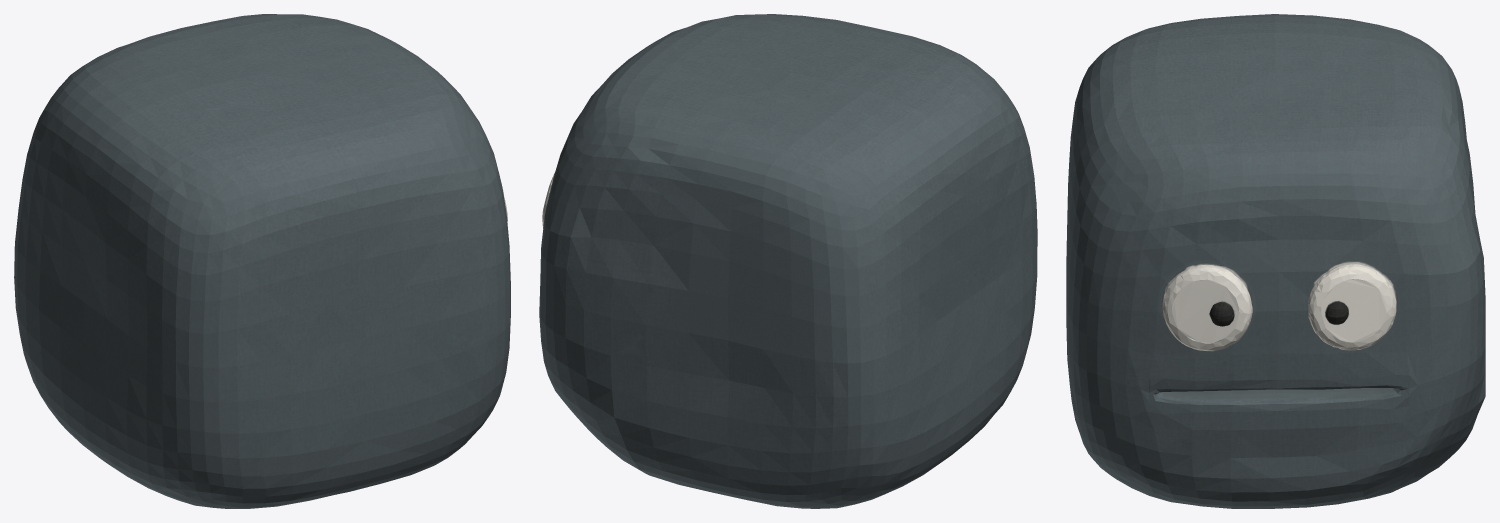
Rendered from petra.glb.
3 renders of one model, left to right at view 1: azimuth 30°, elevation 25°; view 2: azimuth 150°, elevation 25°; view 3: azimuth 270°, elevation 25°, orthographic.
Visible parts, largest first — view 1: tripo_node_5b656501-dd69-4101-909b-5c17f034fe37; view 2: tripo_node_5b656501-dd69-4101-909b-5c17f034fe37; view 3: tripo_node_5b656501-dd69-4101-909b-5c17f034fe37.
Boxes of the visible parts, left/top/right/bottom form: tripo_node_5b656501-dd69-4101-909b-5c17f034fe37: left=14, top=14, right=510, bottom=508; tripo_node_5b656501-dd69-4101-909b-5c17f034fe37: left=539, top=14, right=1037, bottom=508; tripo_node_5b656501-dd69-4101-909b-5c17f034fe37: left=1066, top=14, right=1485, bottom=508.
Size of the model in its own units: 0.998 by 0.9199 by 0.9277.
1 material, 1 textured.
